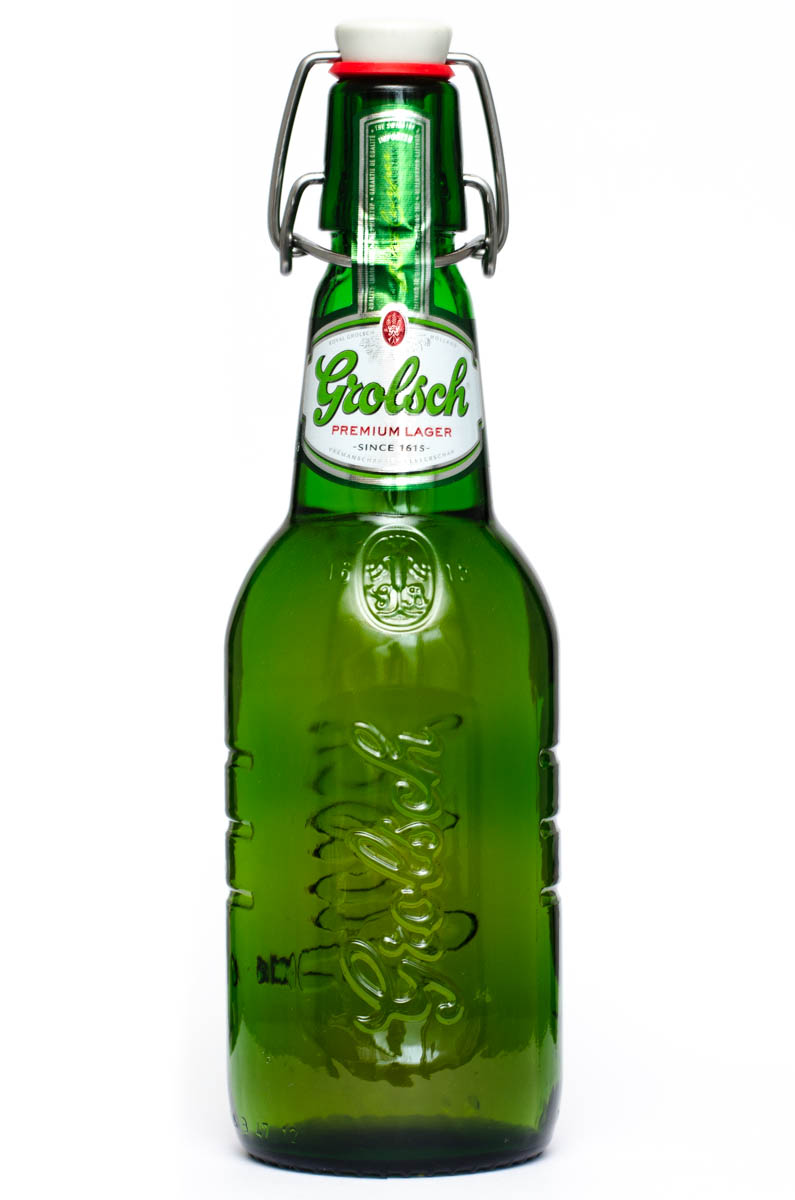beer-bottle: (213, 27, 573, 1190)
